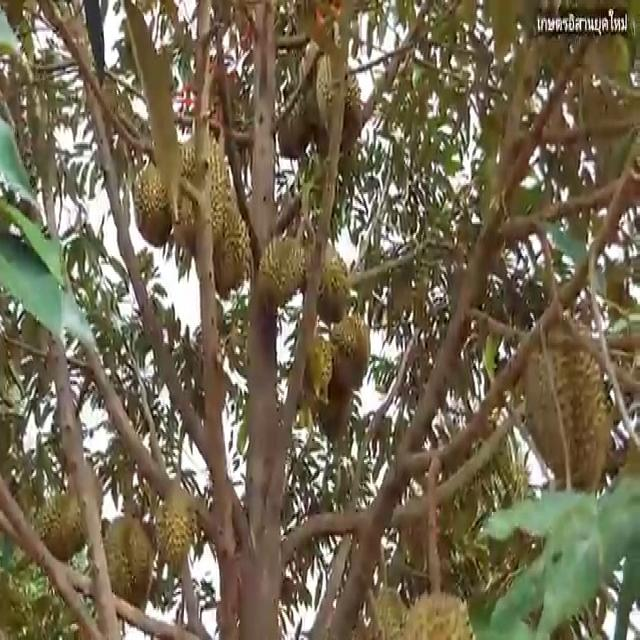durian: (514, 308, 612, 506), (170, 116, 228, 262), (33, 466, 107, 568), (94, 506, 154, 626), (195, 194, 252, 300), (314, 46, 364, 152), (130, 154, 180, 249), (256, 224, 310, 310), (306, 238, 356, 326), (288, 323, 335, 408), (328, 309, 372, 394), (156, 484, 198, 572)
